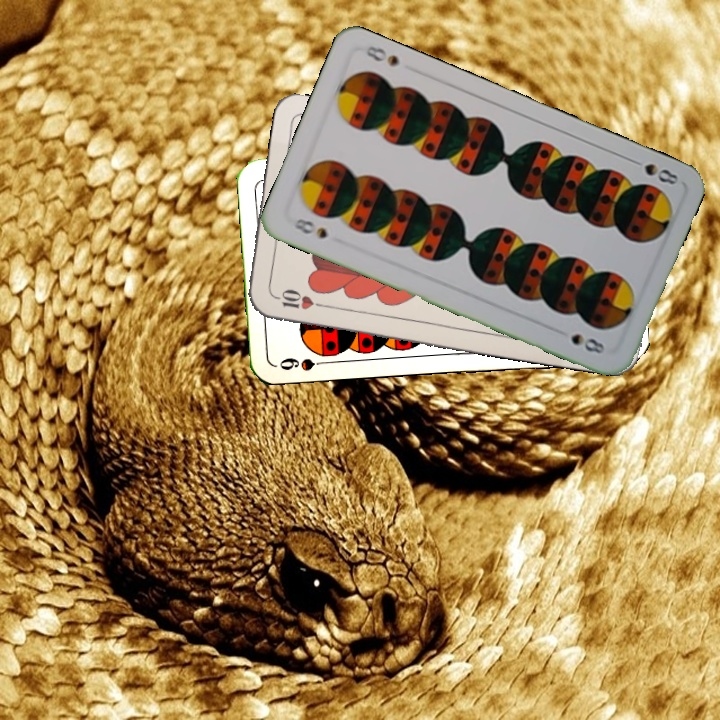H10: (270, 287, 328, 313)
S8: (625, 154, 681, 188), (289, 214, 330, 242)
S9: (275, 353, 333, 373)
